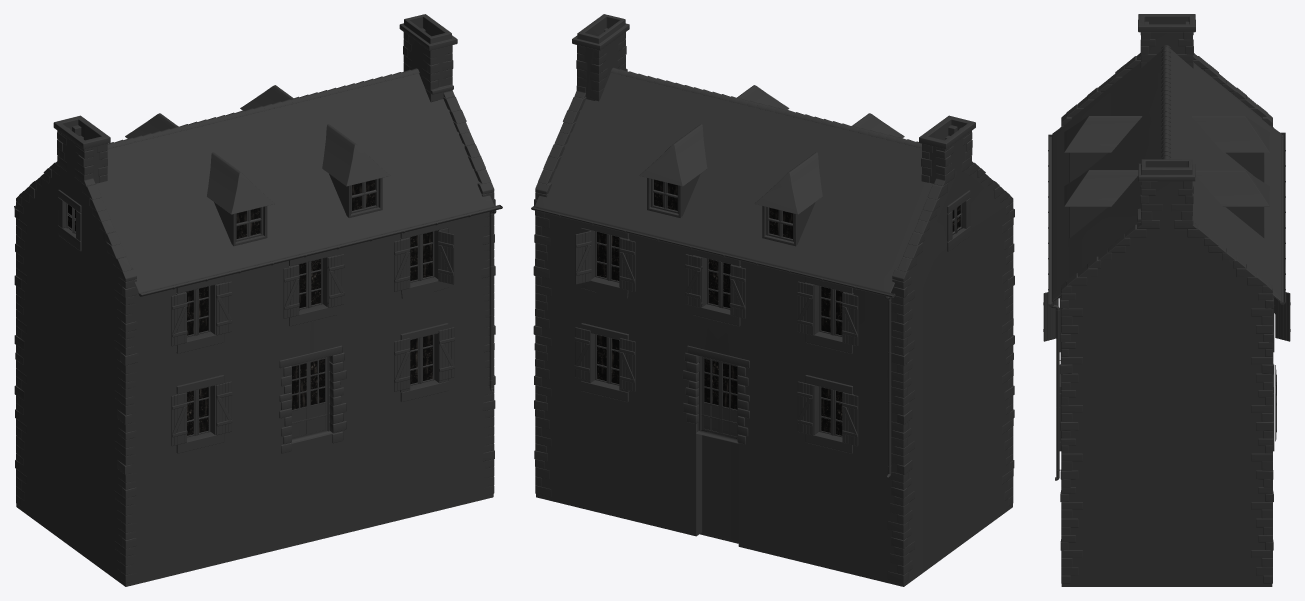
Rendered from SM_House.FBX.
3 views of the same model, side by side, from view 1: azimuth 30°, elevation 25°; view 2: azimuth 150°, elevation 25°; view 3: azimuth 270°, elevation 25° (orthographic). The views are drawn at different scales.
Visible parts, largest first — view 1: SM_House; view 2: SM_House; view 3: SM_House.
Part boxes in pixels (x1,y1,x2,y2): SM_House: (14, 14, 502, 586); SM_House: (531, 14, 1014, 586); SM_House: (1043, 14, 1290, 586).
Size of what is drawn, in the model's own units: 1562 by 928 by 1736.
